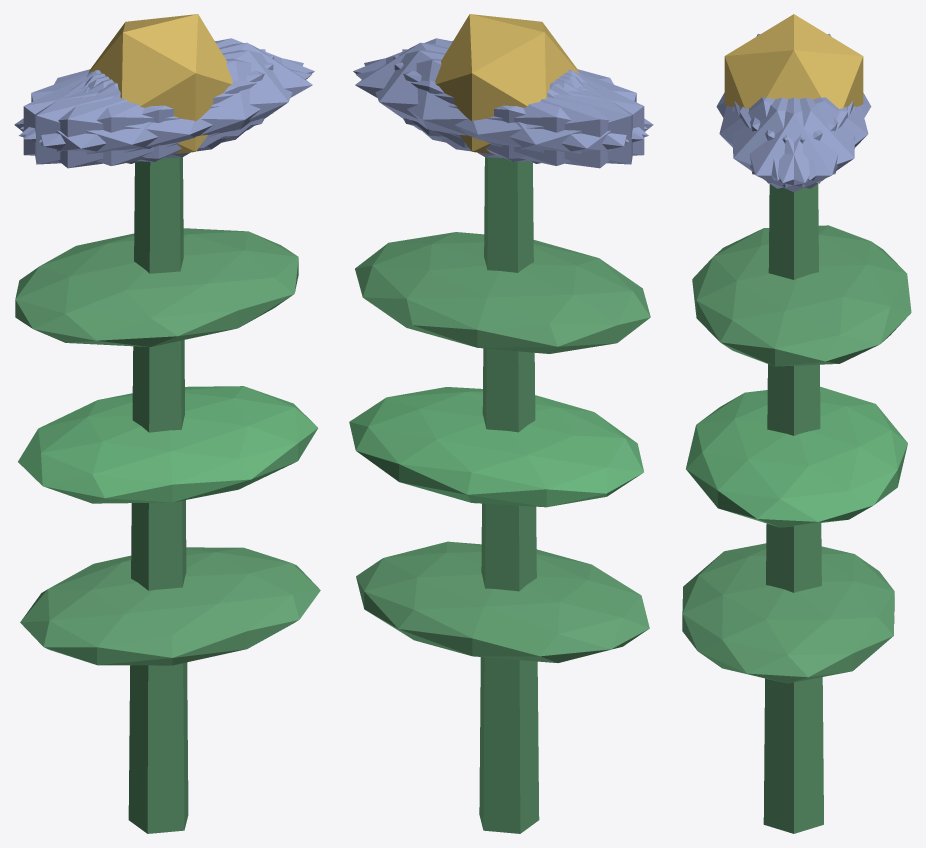
File: tabebuia-heterophylla.glb
3 views of the same model, side by side, from view 1: azimuth 30°, elevation 25°; view 2: azimuth 150°, elevation 25°; view 3: azimuth 270°, elevation 25° (orthographic).
Visible parts, largest first — view 1: stem, leaf0, leaf1, leaf2, center, petal1, petal6, petal2, petal5, petal7, petal0, petal4 (+2 smaller); view 2: leaf2, leaf1, stem, leaf0, center, petal8, petal3, petal7, petal4, petal2, petal0, petal5 (+2 smaller); view 3: leaf1, leaf2, leaf0, stem, center, petal0, petal4, petal5, petal8, petal1.
Part boxes in pixels (bbox=[...]): stem: bbox=[128, 157, 188, 833]; leaf0: bbox=[20, 547, 320, 665]; leaf1: bbox=[18, 386, 317, 503]; leaf2: bbox=[15, 228, 298, 346]; center: bbox=[88, 14, 232, 154]; petal1: bbox=[19, 58, 311, 165]; petal6: bbox=[14, 71, 226, 168]; petal2: bbox=[35, 49, 265, 164]; petal5: bbox=[39, 50, 303, 158]; petal7: bbox=[23, 55, 273, 161]; petal0: bbox=[88, 42, 312, 148]; petal4: bbox=[20, 38, 314, 139]; leaf2: bbox=[355, 232, 650, 353]; leaf1: bbox=[349, 387, 643, 507]; stem: bbox=[479, 157, 539, 833]; leaf0: bbox=[356, 541, 649, 662]; center: bbox=[435, 14, 579, 154]; petal8: bbox=[356, 58, 648, 165]; petal3: bbox=[441, 71, 653, 168]; petal7: bbox=[402, 49, 632, 164]; petal4: bbox=[364, 50, 628, 158]; petal2: bbox=[393, 55, 644, 161]; petal0: bbox=[355, 42, 579, 148]; petal5: bbox=[353, 38, 647, 139]; leaf1: bbox=[686, 386, 907, 527]; leaf2: bbox=[692, 225, 911, 366]; leaf0: bbox=[682, 543, 894, 683]; stem: bbox=[763, 184, 823, 833]; center: bbox=[724, 14, 863, 108]; petal0: bbox=[734, 97, 853, 191]; petal4: bbox=[739, 97, 855, 188]; petal5: bbox=[732, 97, 847, 188]; petal8: bbox=[750, 97, 868, 180]; petal1: bbox=[719, 97, 837, 180].
Bounding box in the file's own units: 0.1452 × 0.384 × 0.1011.
